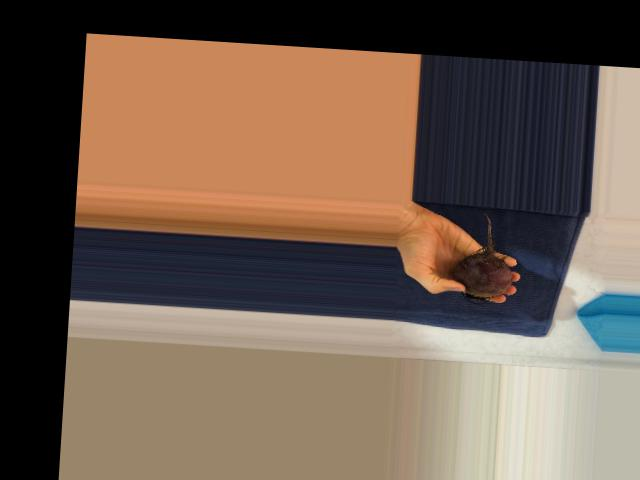beet: (452, 211, 517, 306)
